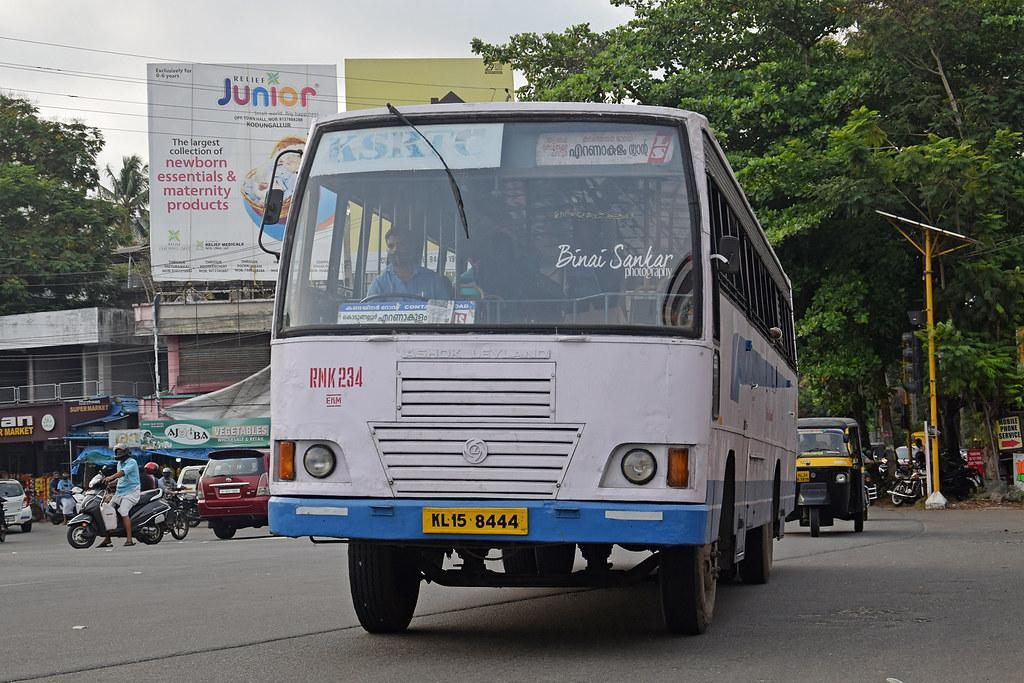Bus: (257, 100, 800, 638)
